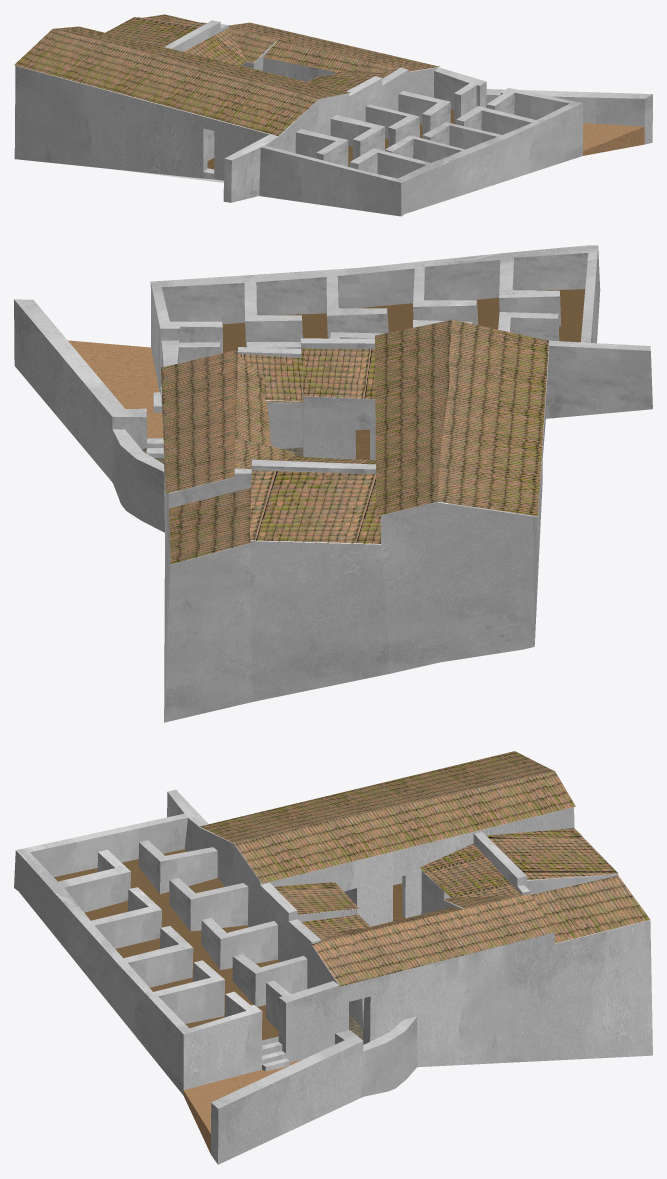
Rendered from sondagem4.smaller.glb.
3 renders of one model, top to bottom at view 1: azimuth 30°, elevation 25°; view 2: azimuth 150°, elevation 25°; view 3: azimuth 270°, elevation 25°, orthographic. The views are drawn at different scales.
Parts seen in each view (by area): view 1: Roof; view 2: Roof; view 3: Roof.
Part boxes in pixels (left/top/right/bottom): Roof: left=14, top=14, right=652, bottom=216; Roof: left=14, top=245, right=652, bottom=722; Roof: left=14, top=751, right=652, bottom=1164.
Size of the model in its own units: 236 by 74.77 by 221.
Materials: 8 (7 with a texture image).
